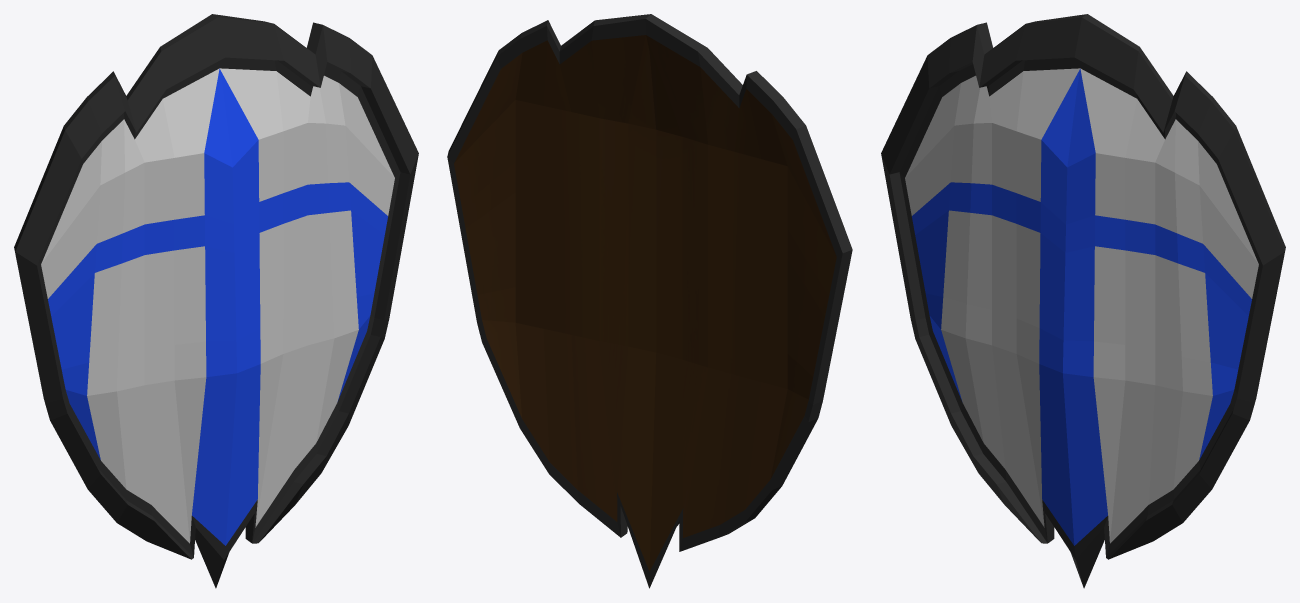
The model's file is Shield_1.fbx.
The picture shows the model from 3 angles, left to right: view 1: azimuth 30°, elevation 25°; view 2: azimuth 150°, elevation 25°; view 3: azimuth 330°, elevation 25°; orthographic projection.
Parts seen in each view (by area): view 1: Shield; view 2: Shield; view 3: Shield.
Part boxes in pixels (x1,y1,x2,y2): Shield: (14,14,418,588); Shield: (447,14,852,588); Shield: (881,14,1285,588).
Size of the model in its own units: 2.47 by 3.36 by 0.2724.
Materials: 4 (1 with a texture image).
